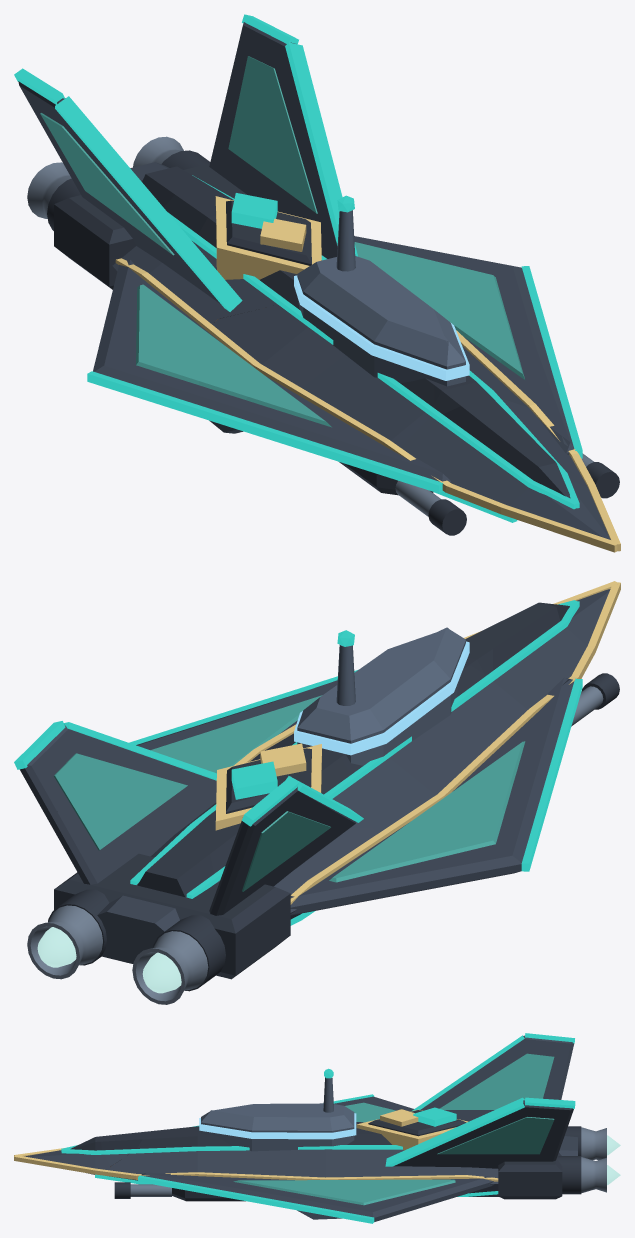
The model's file is mirage_wreck.glb.
The picture shows the model from 3 angles, top to bottom: view 1: azimuth 30°, elevation 25°; view 2: azimuth 150°, elevation 25°; view 3: azimuth 270°, elevation 25°; orthographic projection. The views are drawn at different scales.
Parts seen in each view (by area): view 1: mirage_wreck_11, mirage_wreck_01, mirage_wreck_02, mirage_wreck_06, mirage_wreck_05, mirage_wreck_13, mirage_wreck_09, mirage_wreck_12, mirage_wreck_00, mirage_wreck_10, mirage_wreck_08, mirage_wreck_03 (+2 smaller); view 2: mirage_wreck_00, mirage_wreck_01, mirage_wreck_05, mirage_wreck_11, mirage_wreck_09, mirage_wreck_12, mirage_wreck_02, mirage_wreck_08, mirage_wreck_03, mirage_wreck_13, mirage_wreck_07, mirage_wreck_10 (+2 smaller); view 3: mirage_wreck_05, mirage_wreck_06, mirage_wreck_00, mirage_wreck_07, mirage_wreck_03, mirage_wreck_10, mirage_wreck_09, mirage_wreck_13, mirage_wreck_01, mirage_wreck_04, mirage_wreck_02, mirage_wreck_08.
Part boxes in pixels (x1=…): mirage_wreck_11: x1=206, y1=314, x2=434, y2=492; mirage_wreck_01: x1=68, y1=162, x2=218, y2=328; mirage_wreck_02: x1=367, y1=406, x2=573, y2=535; mirage_wreck_06: x1=432, y1=318, x2=619, y2=498; mirage_wreck_05: x1=282, y1=195, x2=551, y2=366; mirage_wreck_13: x1=195, y1=166, x2=357, y2=318; mirage_wreck_09: x1=230, y1=14, x2=334, y2=175; mirage_wreck_12: x1=196, y1=301, x2=344, y2=433; mirage_wreck_00: x1=27, y1=80, x2=254, y2=264; mirage_wreck_10: x1=387, y1=246, x2=552, y2=347; mirage_wreck_08: x1=87, y1=323, x2=198, y2=416; mirage_wreck_03: x1=14, y1=68, x2=124, y2=237; mirage_wreck_00: x1=27, y1=810, x2=250, y2=1004; mirage_wreck_01: x1=202, y1=787, x2=426, y2=968; mirage_wreck_05: x1=221, y1=630, x2=428, y2=774; mirage_wreck_11: x1=411, y1=636, x2=571, y2=807; mirage_wreck_09: x1=14, y1=721, x2=161, y2=836; mirage_wreck_12: x1=358, y1=727, x2=547, y2=837; mirage_wreck_02: x1=493, y1=605, x2=619, y2=726; mirage_wreck_08: x1=396, y1=805, x2=546, y2=890; mirage_wreck_03: x1=212, y1=776, x2=321, y2=949; mirage_wreck_13: x1=161, y1=743, x2=371, y2=828; mirage_wreck_07: x1=129, y1=755, x2=221, y2=858; mirage_wreck_10: x1=129, y1=706, x2=243, y2=773; mirage_wreck_05: x1=241, y1=1068, x2=384, y2=1210; mirage_wreck_06: x1=107, y1=1109, x2=268, y2=1205; mirage_wreck_00: x1=509, y1=1126, x2=620, y2=1199; mirage_wreck_07: x1=386, y1=1131, x2=519, y2=1205; mirage_wreck_03: x1=479, y1=1033, x2=574, y2=1102; mirage_wreck_10: x1=268, y1=1176, x2=429, y2=1223; mirage_wreck_09: x1=450, y1=1097, x2=575, y2=1155; mirage_wreck_13: x1=359, y1=1103, x2=468, y2=1176; mirage_wreck_01: x1=420, y1=1065, x2=509, y2=1121; mirage_wreck_04: x1=14, y1=1137, x2=110, y2=1179; mirage_wreck_02: x1=95, y1=1128, x2=175, y2=1176; mirage_wreck_08: x1=333, y1=1094, x2=413, y2=1120.
Bounding box in the file's own units: 4.62 × 2.24 × 9.49.
